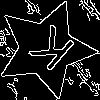K: (21, 24, 77, 80)
